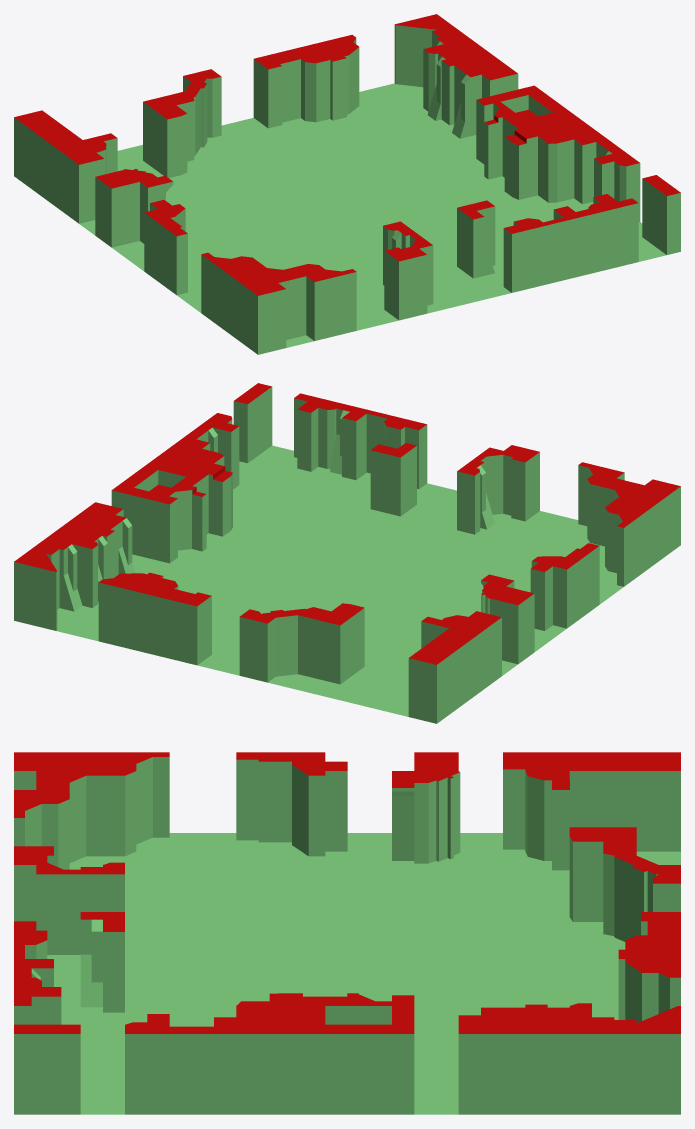
Rendered from x_oo_ground_58_BK1_rmstrd.fbx.
3 renders of one model, top to bottom at view 1: azimuth 30°, elevation 25°; view 2: azimuth 150°, elevation 25°; view 3: azimuth 270°, elevation 25°, orthographic. The views are drawn at different scales.
Parts seen in each view (by area): view 1: x_oo_ground_58_BK1_rmstrd1; view 2: x_oo_ground_58_BK1_rmstrd1; view 3: x_oo_ground_58_BK1_rmstrd1.
Part boxes in pixels (x1,y1,x2,y2): x_oo_ground_58_BK1_rmstrd1: [14, 14, 680, 354]; x_oo_ground_58_BK1_rmstrd1: [14, 383, 680, 723]; x_oo_ground_58_BK1_rmstrd1: [14, 752, 680, 1114].
Size of the model in its own units: 30 by 4 by 30.
